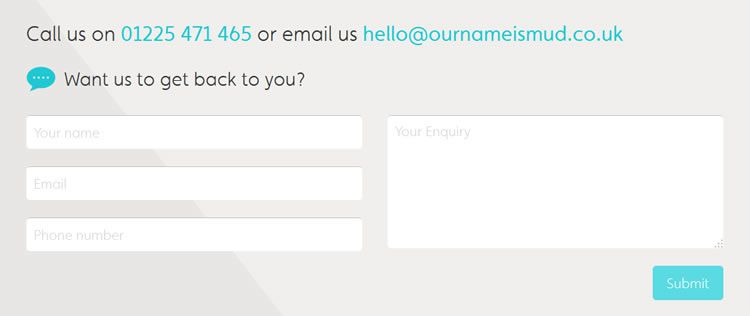_form_: (332, 1, 748, 316), (1, 1, 416, 316)
button: (652, 265, 724, 300)
field: (384, 114, 726, 250), (24, 166, 364, 202), (24, 115, 364, 150), (24, 217, 364, 252)
